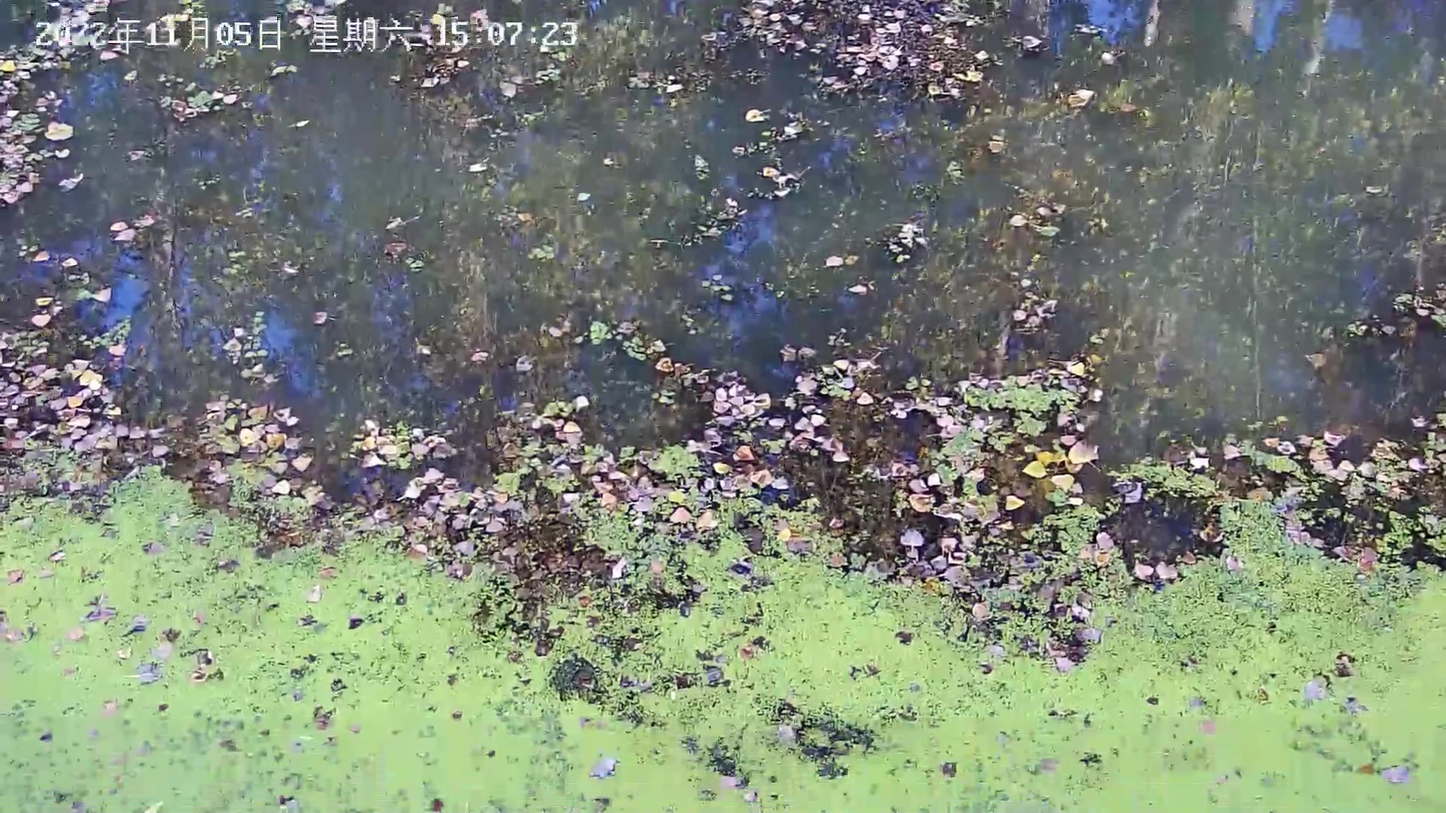floater: (1, 461, 1446, 812), (2, 252, 1097, 516), (1158, 408, 1446, 560), (741, 1, 996, 113), (2, 2, 121, 204)
